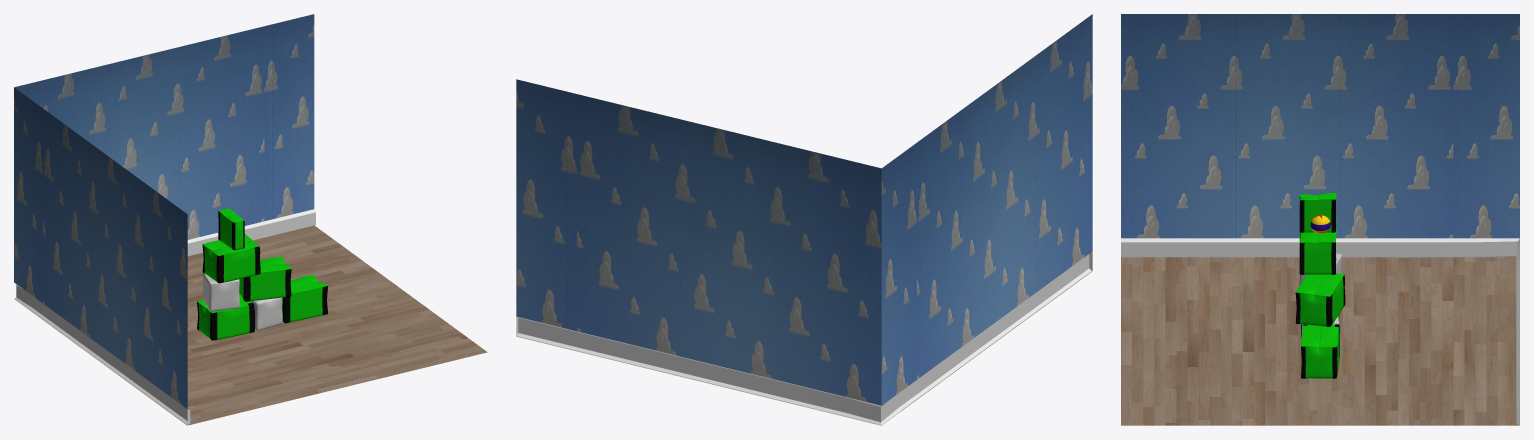
Rendered from animação bola.fbx.
3 renders of one model, left to right at view 1: azimuth 30°, elevation 25°; view 2: azimuth 150°, elevation 25°; view 3: azimuth 270°, elevation 25°, orthographic. The views are drawn at different scales.
Parts seen in each view (by area): view 1: wall, ground, box3, box2, box, box4, box5, box6, box1; view 2: wall, ground; view 3: wall, ground, box, box4, box3, box6.
Part boxes in pixels (box(x1,y1,x2,y2)): wall: box(14, 14, 315, 425); ground: box(15, 225, 487, 425); box3: box(202, 234, 260, 283); box2: box(197, 293, 254, 340); box: box(239, 257, 291, 301); box4: box(282, 275, 327, 323); box5: box(202, 273, 239, 311); box6: box(218, 208, 244, 250); box1: box(251, 297, 282, 330); wall: box(516, 14, 1092, 425); ground: box(517, 271, 1092, 425); wall: box(1121, 14, 1519, 425); ground: box(1121, 257, 1518, 425); box: box(1295, 273, 1345, 326); box4: box(1301, 324, 1339, 378); box3: box(1299, 218, 1336, 274); box6: box(1299, 193, 1336, 232).
Bounding box in the file's own units: 73.29 × 49.38 × 73.29.
